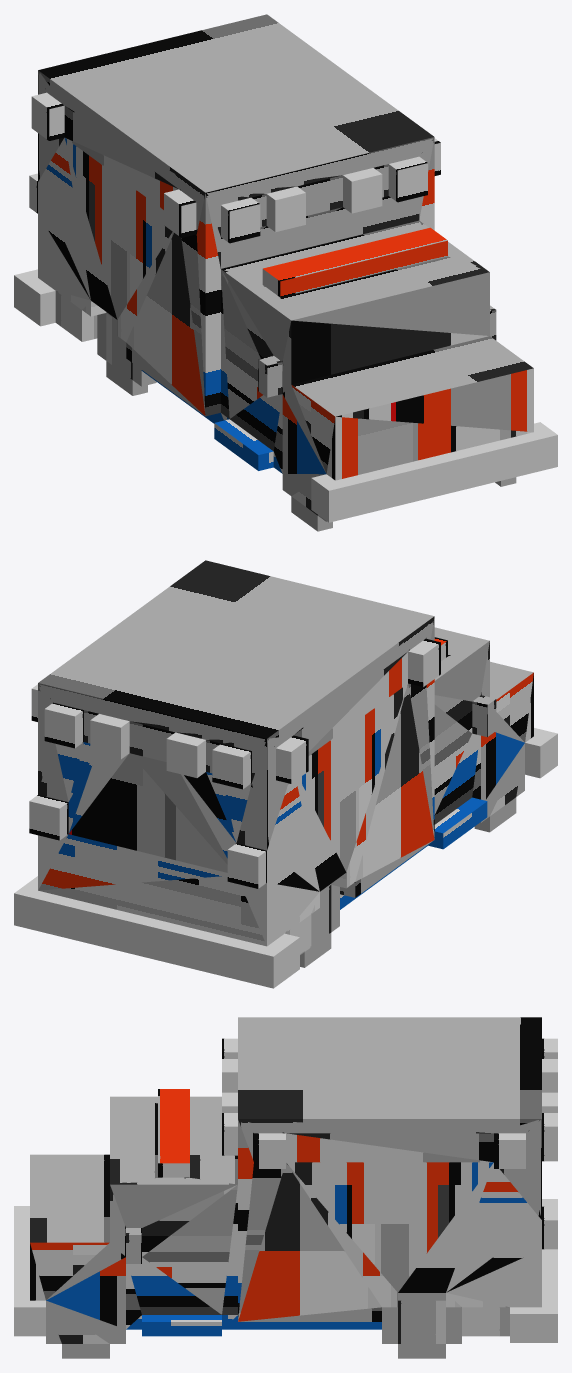
The model's file is veh_ambulance.fbx.
3 renders of one model, top to bottom at view 1: azimuth 30°, elevation 25°; view 2: azimuth 150°, elevation 25°; view 3: azimuth 270°, elevation 25°, orthographic. The views are drawn at different scales.
Parts seen in each view (by area): view 1: veh_ambulance; view 2: veh_ambulance; view 3: veh_ambulance.
Part boxes in pixels (x1,y1,x2,y2): veh_ambulance: [14, 14, 557, 531]; veh_ambulance: [14, 560, 557, 988]; veh_ambulance: [14, 1017, 557, 1358].
Bounding box in the file's own units: 1.7 × 3.4 × 1.7.
